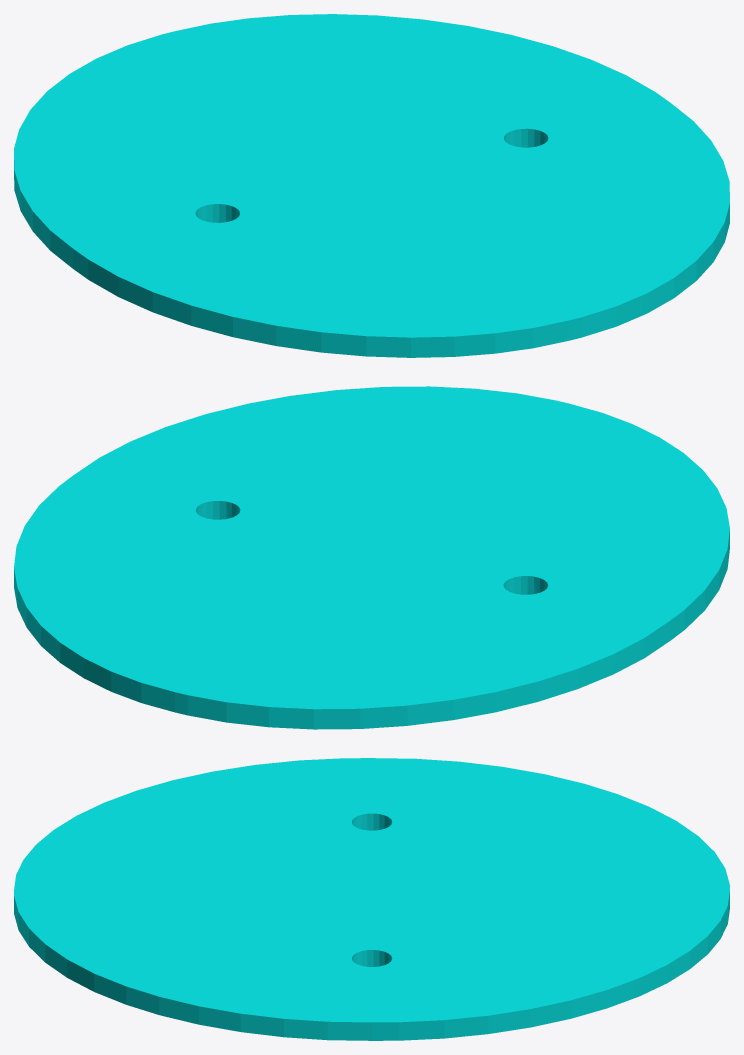
The model's file is valve_blade.glb.
3 renders of one model, top to bottom at view 1: azimuth 30°, elevation 25°; view 2: azimuth 150°, elevation 25°; view 3: azimuth 270°, elevation 25°, orthographic. The views are drawn at different scales.
Parts seen in each view (by area): view 1: Node1; view 2: Node1; view 3: Node1.
Part boxes in pixels (left/top/right/bottom): Node1: left=14, top=14, right=729, bottom=357; Node1: left=14, top=386, right=729, bottom=729; Node1: left=14, top=758, right=729, bottom=1040.
Size of the model in its own units: 49.22 by 1.6 by 56.34.
